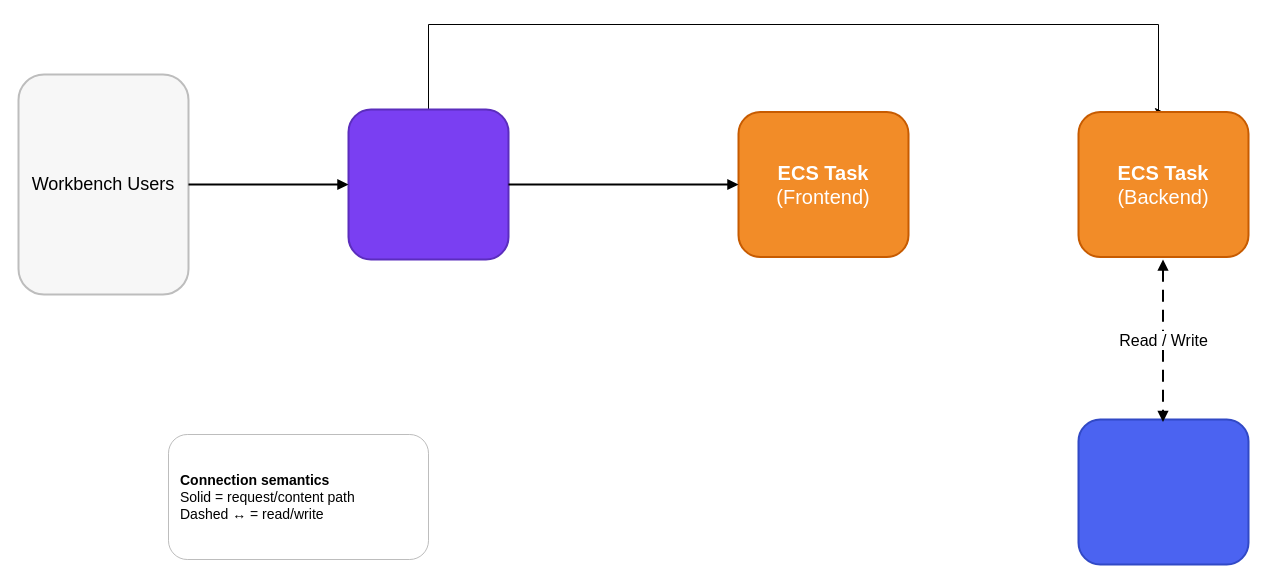
Some shapes in this 1266 by 583 pixel diagram are drawn without their labels. Here are the shapes that lost their labels. From the top down, the centre of each, then its label:
point (428, 184): ALB (Application Load Balancer)
point (1163, 491): RDS (Database)
